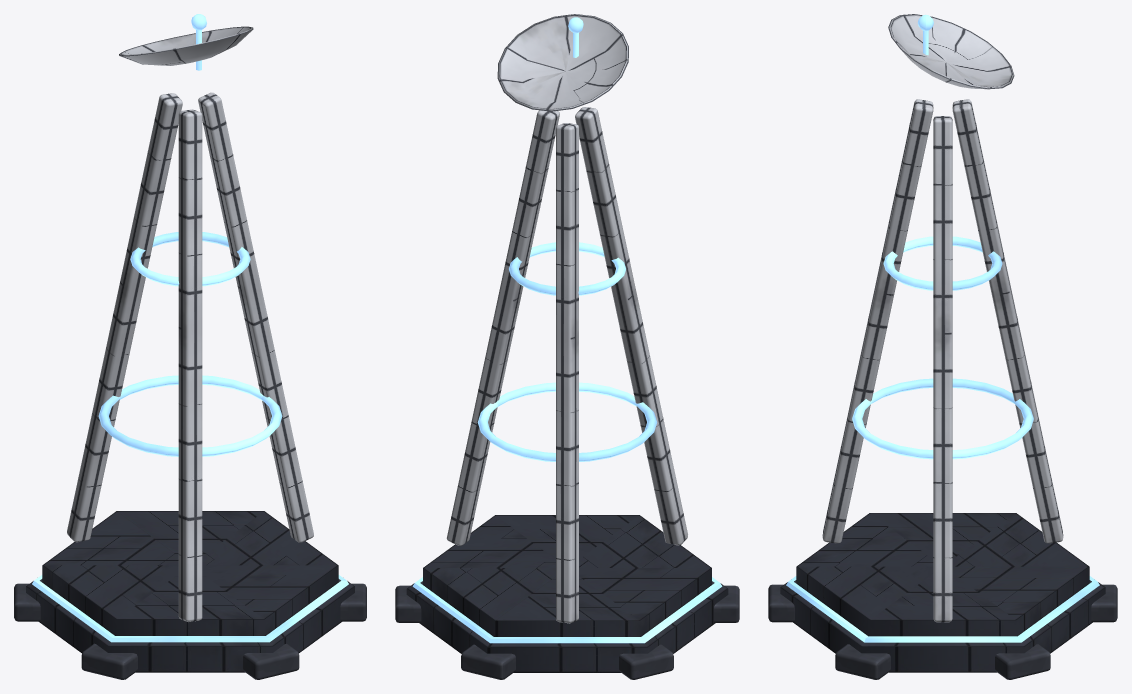
Rendered from sf_pylon.glb.
3 renders of one model, left to right at view 1: azimuth 30°, elevation 25°; view 2: azimuth 150°, elevation 25°; view 3: azimuth 270°, elevation 25°, orthographic. The views are drawn at different scales.
Parts seen in each view (by area): view 1: Base, Dish; view 2: Base, Dish; view 3: Base, Dish.
Part boxes in pixels (<box>): Base: <box>14,92,366,679</box>; Dish: <box>119,14,253,70</box>; Base: <box>395,107,739,679</box>; Dish: <box>497,14,628,111</box>; Base: <box>768,99,1117,679</box>; Dish: <box>888,14,1014,89</box>.
Size of the model in its own units: 0.7576 by 1.54 by 0.8148.
Materials: 4 (4 with a texture image).
